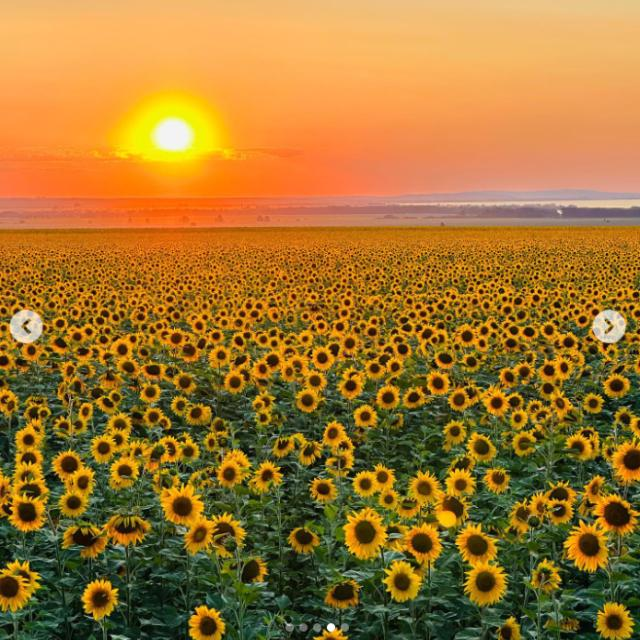sun: (132, 97, 211, 170)
